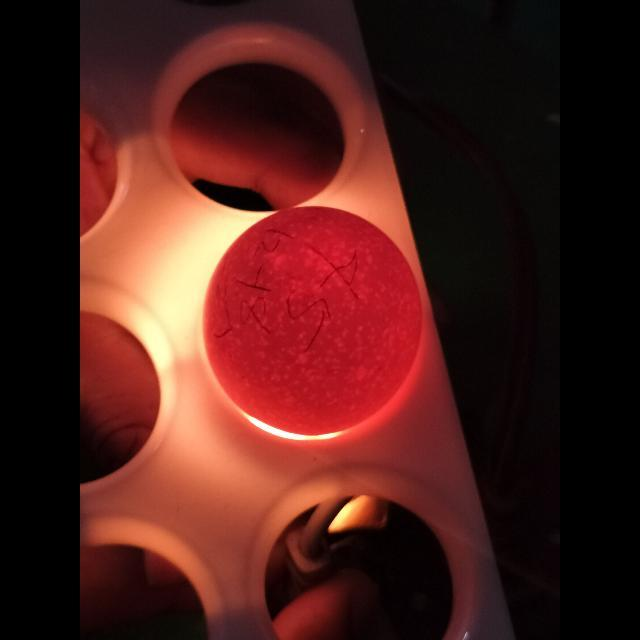Infertile: (207, 204, 423, 426)
